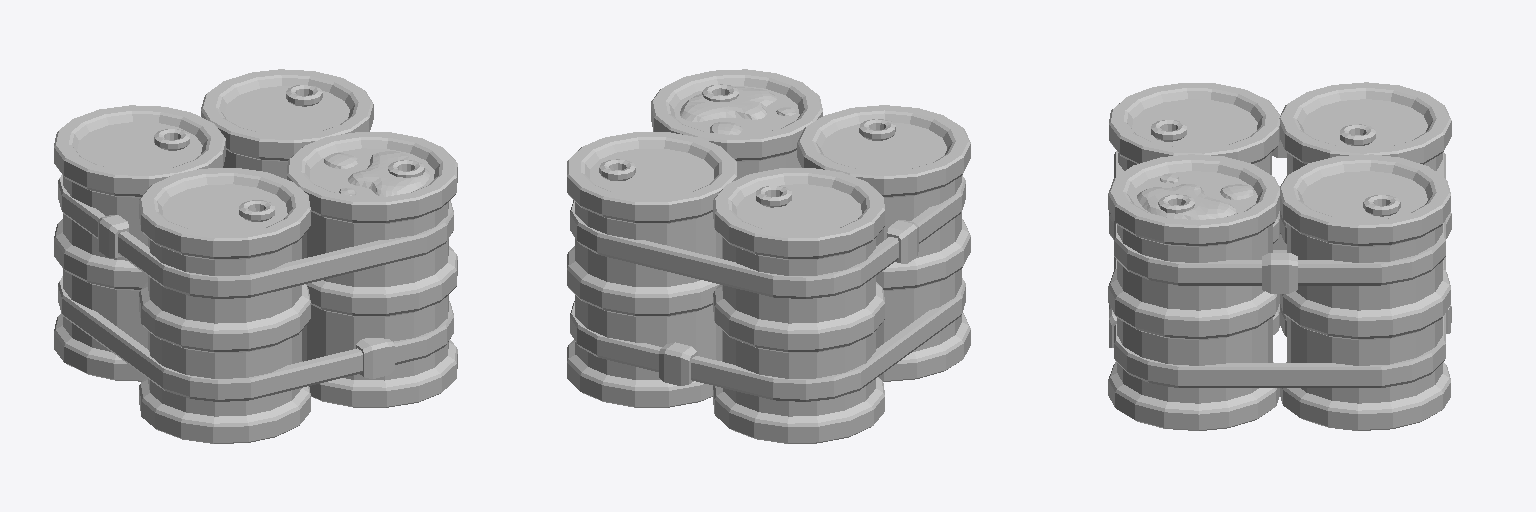
Rendered from Fuel_B_Barrels.obj.
3 views of the same model, side by side, from view 1: azimuth 30°, elevation 25°; view 2: azimuth 150°, elevation 25°; view 3: azimuth 270°, elevation 25° (orthographic).
Parts seen in each view (by area): view 1: Fuel_B_Barrels; view 2: Fuel_B_Barrels; view 3: Fuel_B_Barrels.
Boxes of the visible parts, x1,y1,x2,y2 form: Fuel_B_Barrels: [54, 69, 457, 443]; Fuel_B_Barrels: [567, 69, 970, 443]; Fuel_B_Barrels: [1108, 82, 1451, 430].
Size of the model in its own units: 1.51 by 1.01 by 1.51.